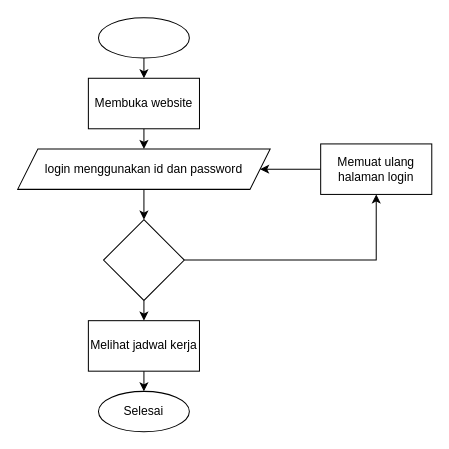
Image size: 449x449. Some labels were removed from this diagram. Each missing label, with the box of its shape:
id dan password: (103, 219, 184, 300)
Mulai: (97, 17, 189, 58)
